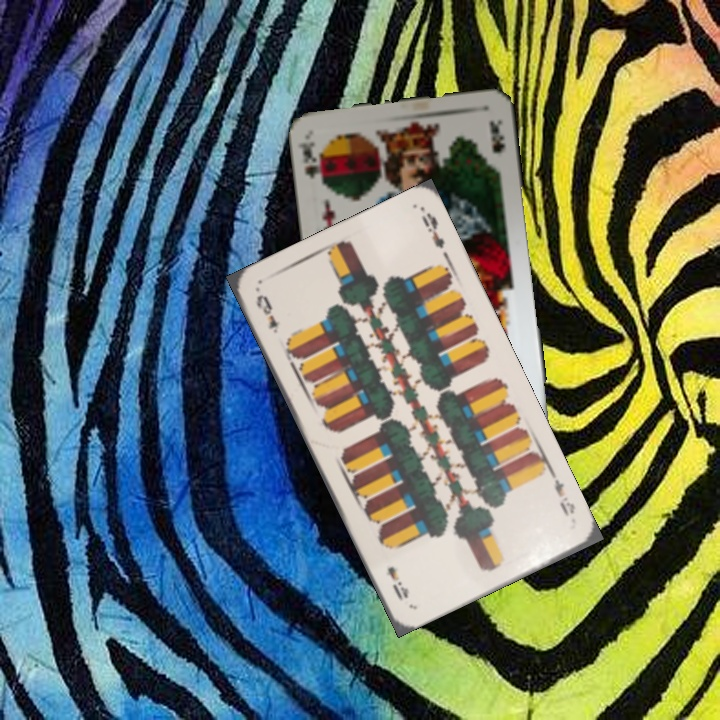E9: (546, 468, 578, 520), (252, 290, 282, 336)
SK: (296, 138, 328, 188)
